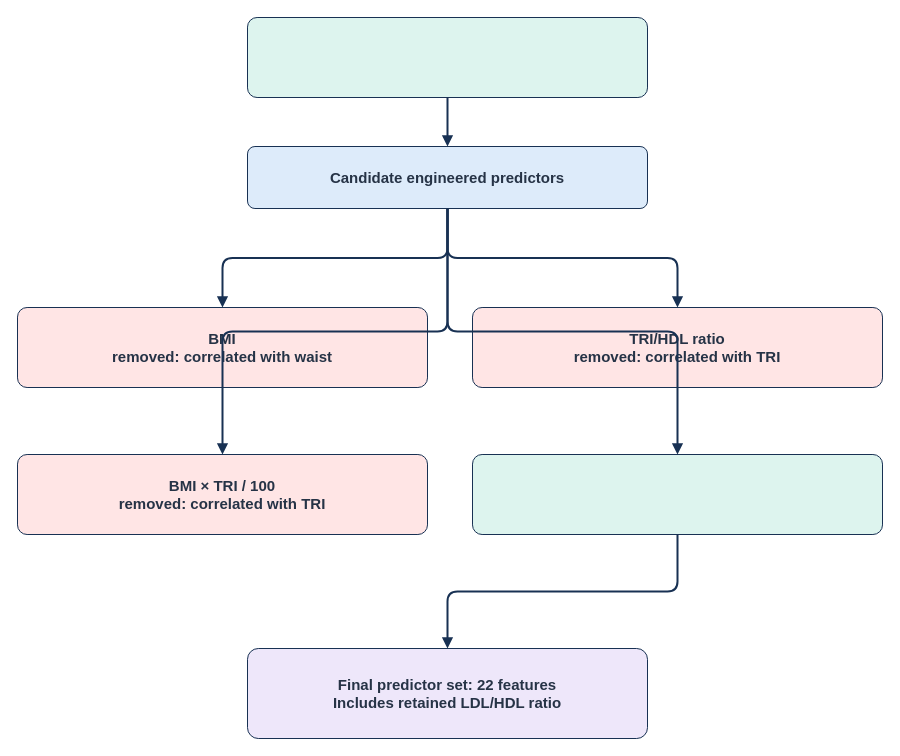
The diagram is 900 pixels wide and 756 high, and some of its shapes have lost their labels. Here are the shapes that lost their labels. From the top down, the centre of each, then its label:
At point (447, 57): "Measured variables weight, height, waist, tri, hdl, ldl".
At point (677, 494): "LDL/HDL ratio RETAINED".
